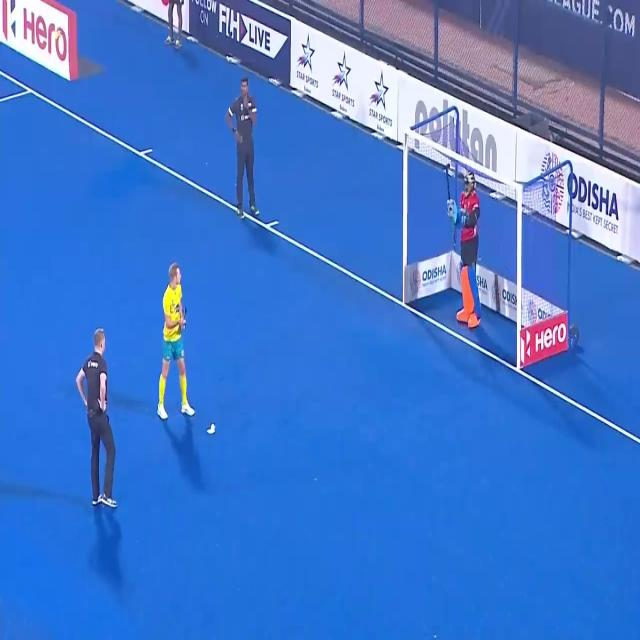ball: (202, 415, 220, 438)
